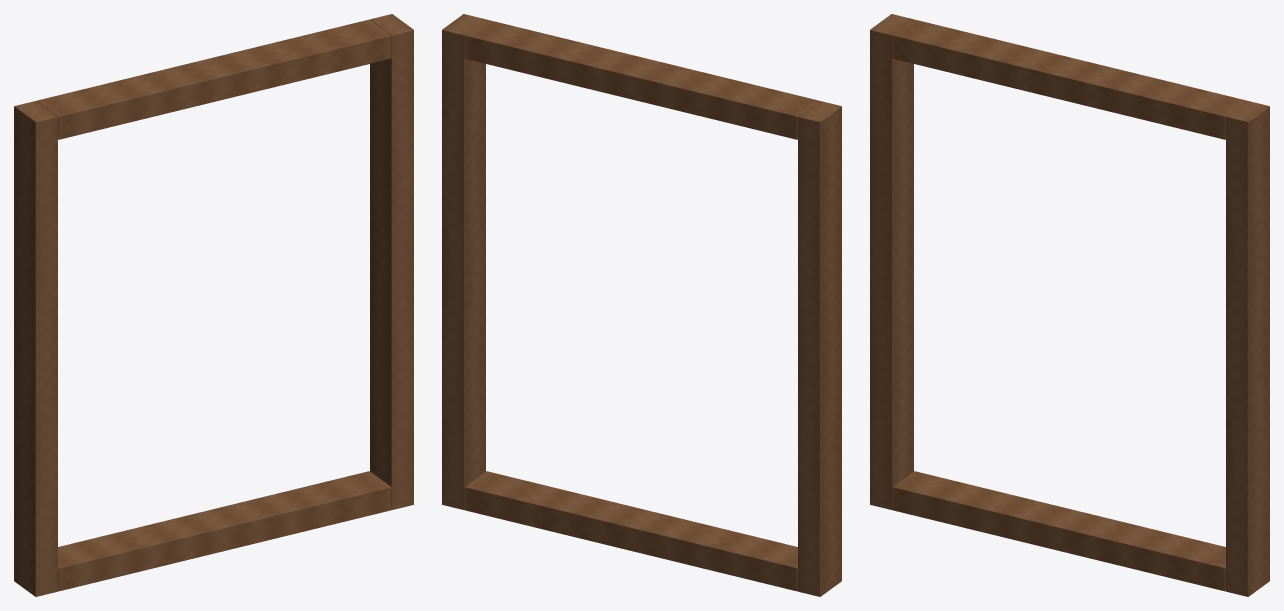
The model's file is MRP_WindowFrame_1x1p2m.fbx.
3 renders of one model, left to right at view 1: azimuth 30°, elevation 25°; view 2: azimuth 150°, elevation 25°; view 3: azimuth 330°, elevation 25°, orthographic.
Visible parts, largest first — view 1: Body; view 2: Body; view 3: Body.
Boxes of the visible parts, x1,y1,x2,y2 form: Body: [14, 14, 413, 596]; Body: [442, 14, 841, 596]; Body: [870, 14, 1269, 596].
Size of the model in its own units: 1 by 1.2 by 0.1.
